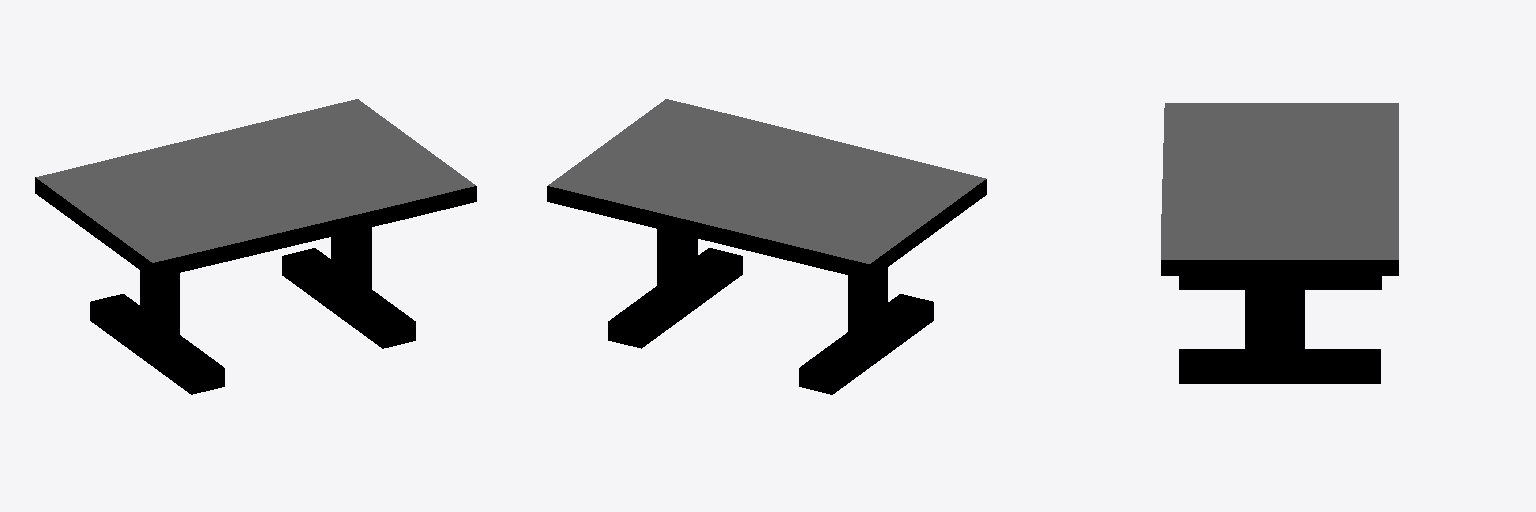
Rendered from table3.obj.
3 renders of one model, left to right at view 1: azimuth 30°, elevation 25°; view 2: azimuth 150°, elevation 25°; view 3: azimuth 270°, elevation 25°, orthographic.
Parts seen in each view (by area): view 1: Mesh3 Model, Mesh2 Model, Mesh1 Model; view 2: Mesh3 Model, Mesh2 Model, Mesh1 Model; view 3: Mesh3 Model, Mesh1 Model, Mesh2 Model.
Boxes of the visible parts, <box> form: Mesh3 Model: <box>35,99,476,278</box>; Mesh2 Model: <box>90,270,224,394</box>; Mesh1 Model: <box>282,227,415,348</box>; Mesh3 Model: <box>547,99,986,280</box>; Mesh2 Model: <box>799,268,933,394</box>; Mesh1 Model: <box>608,229,742,348</box>; Mesh3 Model: <box>1161,103,1398,275</box>; Mesh1 Model: <box>1179,276,1380,383</box>; Mesh2 Model: <box>1179,276,1381,289</box>.
Bounding box in the file's own units: 4.8 × 2.12 × 3.07.